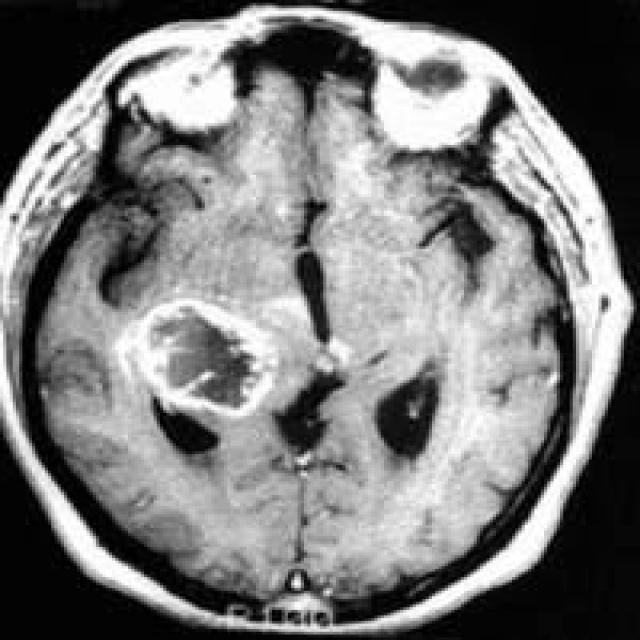glioma: (120, 290, 278, 413)
